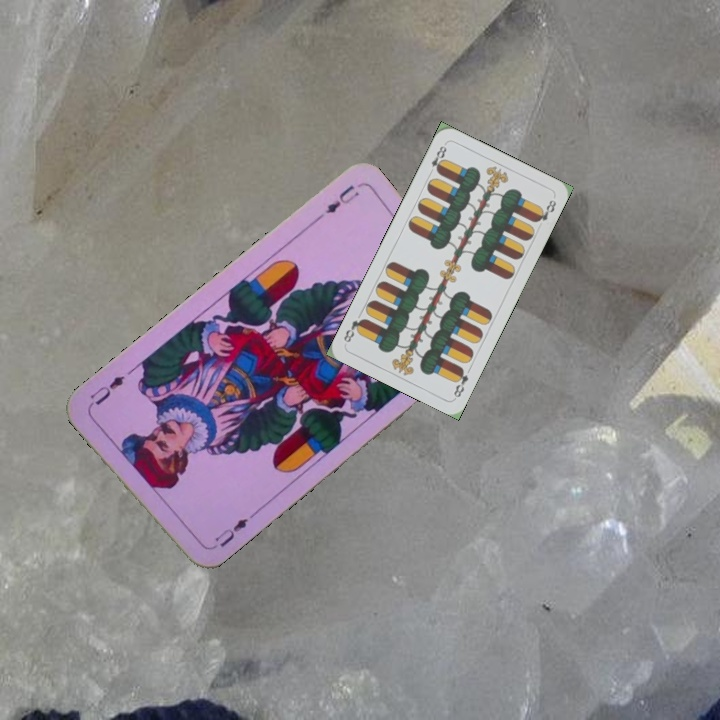E8: (425, 140, 449, 177), (450, 363, 471, 400)
EU: (205, 514, 251, 553), (322, 180, 362, 216)
